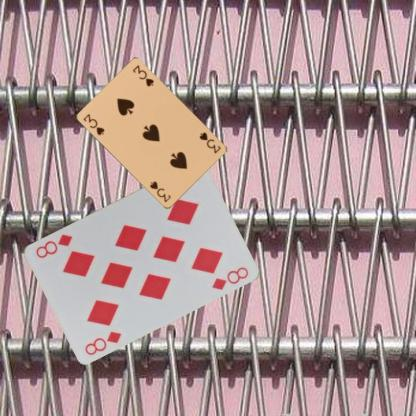3s: (197, 129, 222, 155), (81, 111, 106, 136)
8d: (82, 328, 123, 357)
